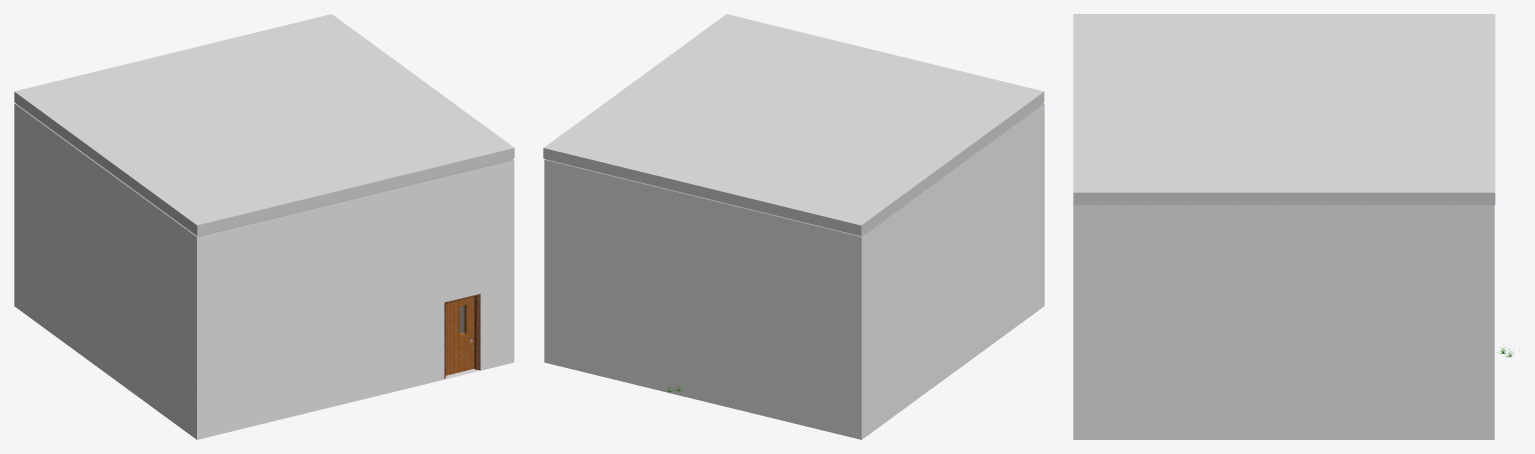
The model's file is science_room.glb.
The picture shows the model from 3 angles, left to right: view 1: azimuth 30°, elevation 25°; view 2: azimuth 150°, elevation 25°; view 3: azimuth 270°, elevation 25°; orthographic projection. The views are drawn at different scales.
Visible parts, largest first — view 1: _G-Object (Loose Mesh), Cube, G-Object.004, G-Object.006; view 2: _G-Object (Loose Mesh), Cube; view 3: _G-Object (Loose Mesh), Cube.
Part boxes in pixels (bbox=[...]): _G-Object (Loose Mesh): bbox=[14, 103, 514, 439]; Cube: bbox=[14, 14, 514, 235]; G-Object.004: bbox=[446, 297, 474, 375]; G-Object.006: bbox=[444, 294, 480, 378]; _G-Object (Loose Mesh): bbox=[544, 103, 1044, 439]; Cube: bbox=[543, 14, 1044, 235]; _G-Object (Loose Mesh): bbox=[1073, 205, 1494, 439]; Cube: bbox=[1073, 14, 1495, 204].
Bounding box in the file's own units: 33.02 × 21.35 × 34.91.
Materials: 45 (14 with a texture image).
